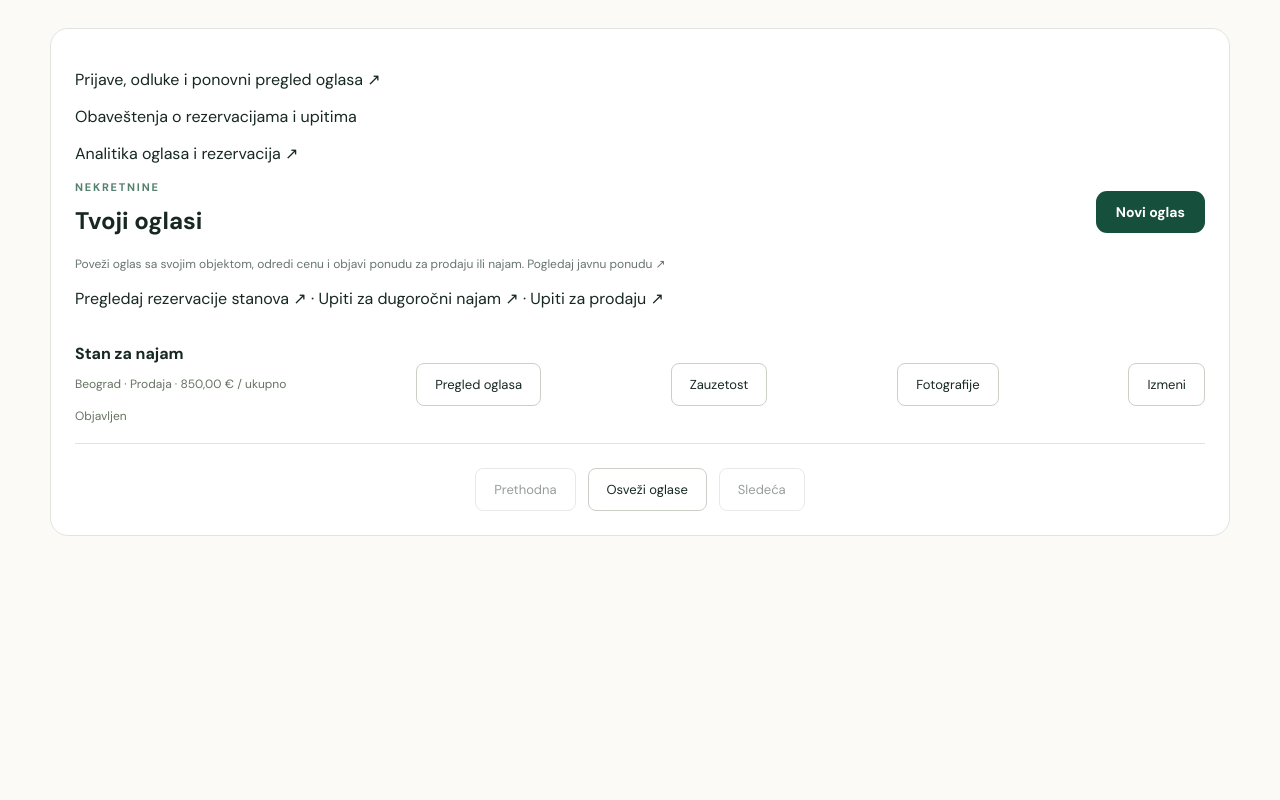
Test: shows completion for supplied recommendations and resets when opening a new listing
Click the button with aria-label "Izmeni: Stan za najam". click: [1167, 384]
box: [1128,362,1205,406]
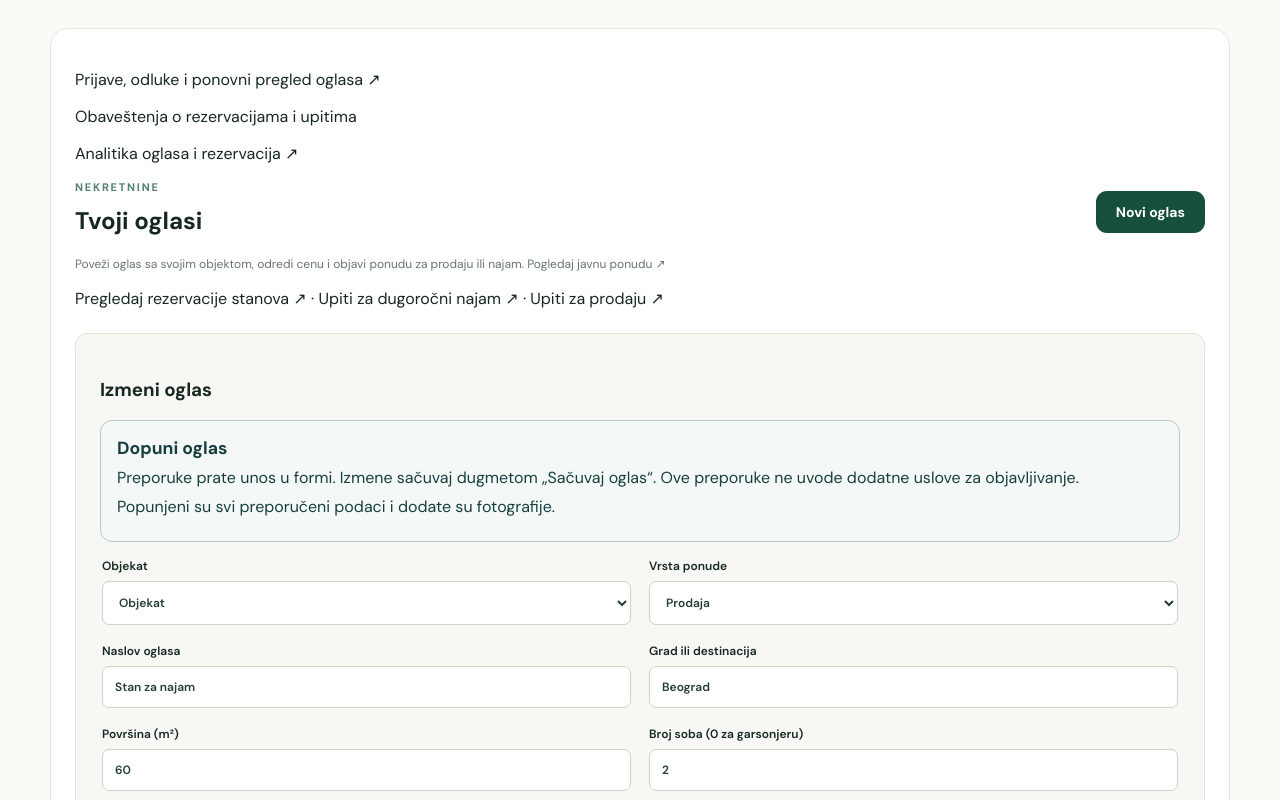
Expected: the text "Popunjeni su svi preporučeni podaci i dodate su fotografije." is shown, [117,496,555,517]
Click the button "Novi oglas". click: [1150, 212]
box: [1096,191,1205,233]
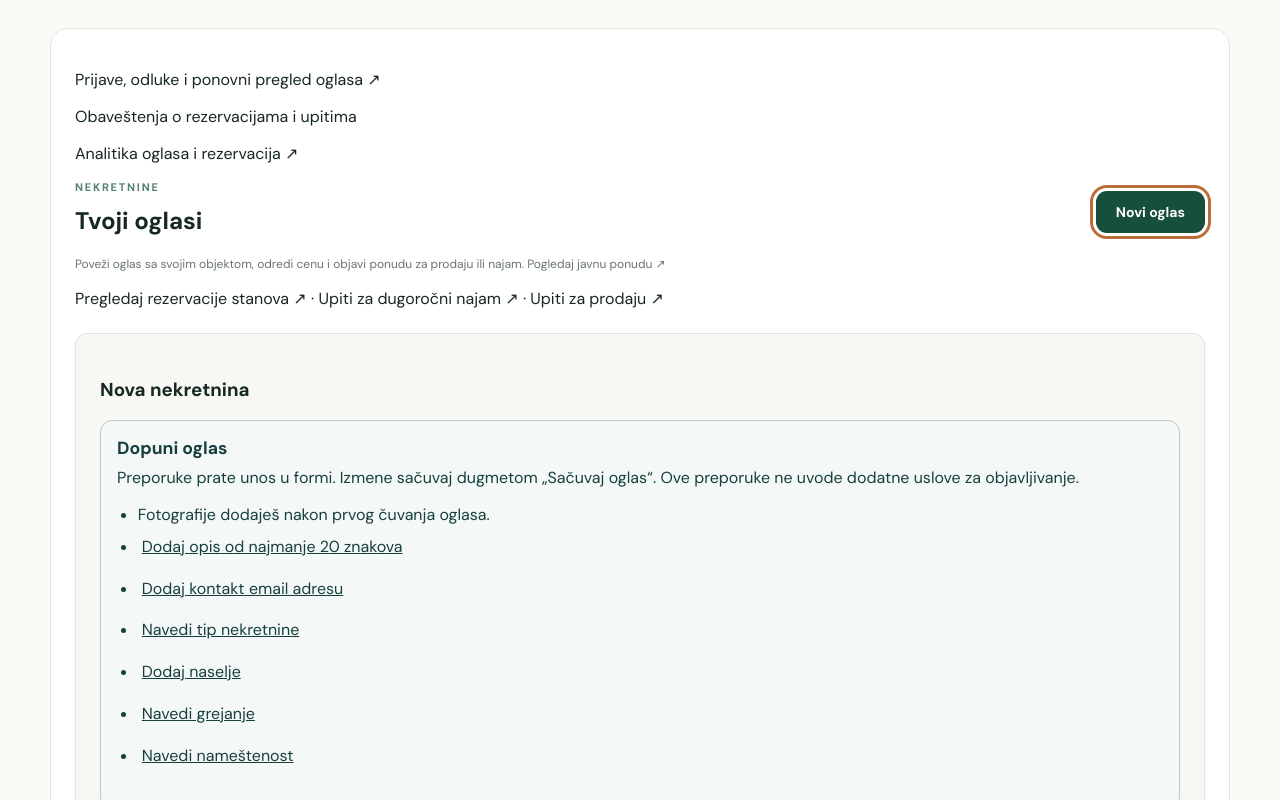
Expected: the text "Popunjeni su svi preporučeni podaci i dodate su fotografije." is gone
Expected: the button "Navedi grejanje" is shown, [138,693,259,734]
